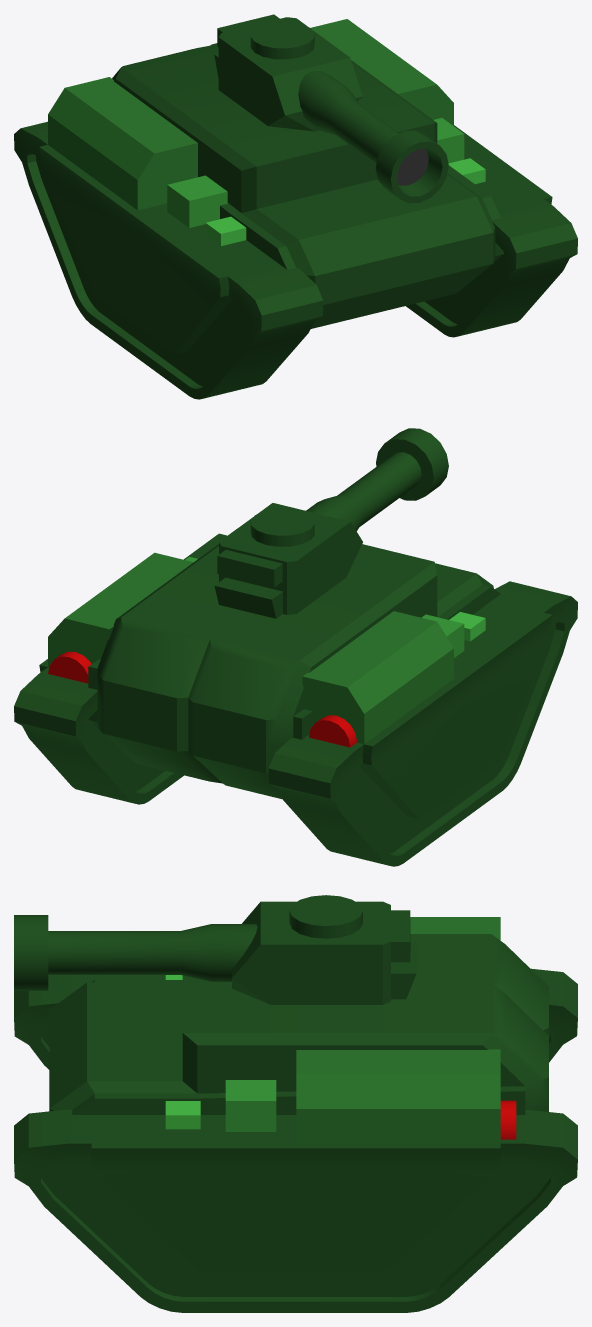
Rendered from Tank.fbx.
3 renders of one model, top to bottom at view 1: azimuth 30°, elevation 25°; view 2: azimuth 150°, elevation 25°; view 3: azimuth 270°, elevation 25°, orthographic. The views are drawn at different scales.
Visible parts, largest first — view 1: Tank; view 2: Tank; view 3: Tank.
Boxes of the visible parts, x1,y1,x2,y2 form: Tank: [14, 14, 577, 399]; Tank: [14, 428, 577, 866]; Tank: [14, 895, 577, 1312].
Bounding box in the file's own units: 61.11 × 48.5 × 78.65.
